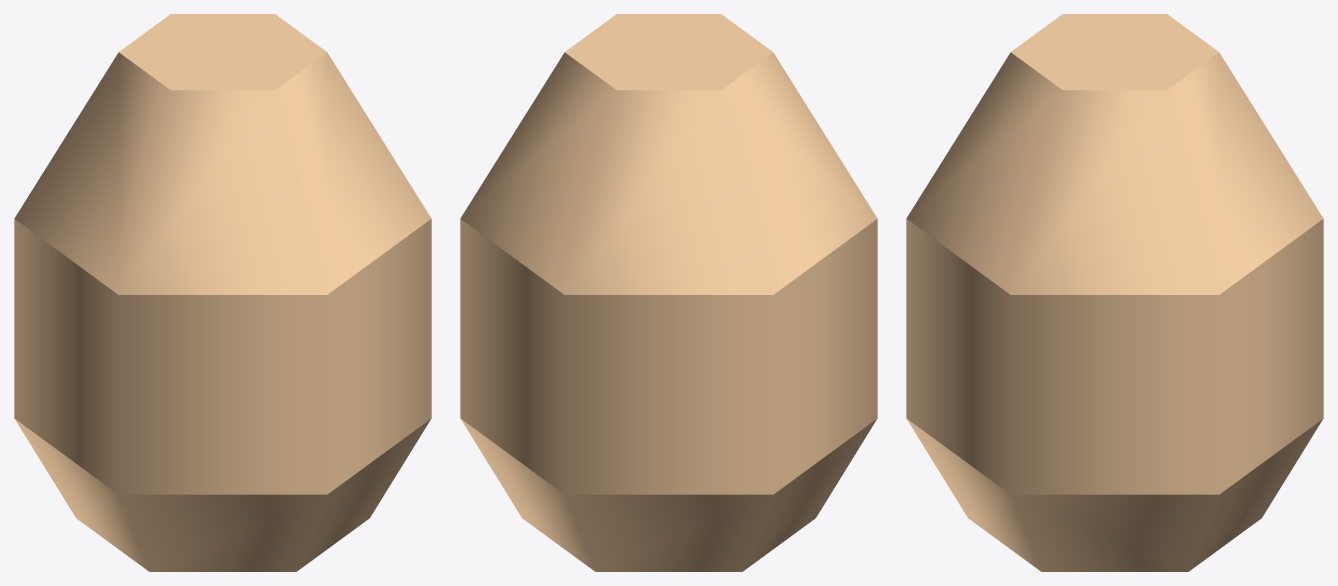
Rendered from Egg.glb.
3 views of the same model, side by side, from view 1: azimuth 30°, elevation 25°; view 2: azimuth 150°, elevation 25°; view 3: azimuth 270°, elevation 25° (orthographic).
Parts seen in each view (by area): view 1: Egg; view 2: Egg; view 3: Egg.
Part boxes in pixels (left/top/right/bottom): Egg: left=14, top=14, right=431, bottom=571; Egg: left=460, top=14, right=877, bottom=571; Egg: left=906, top=14, right=1323, bottom=571.
Size of the model in its own units: 0.1161 by 0.1652 by 0.134.
